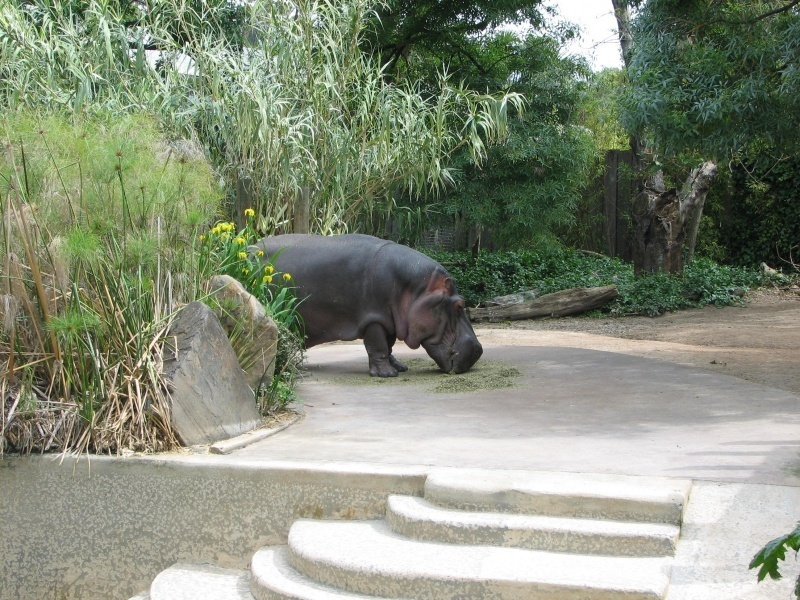hipopotamo: (225, 230, 486, 381)
